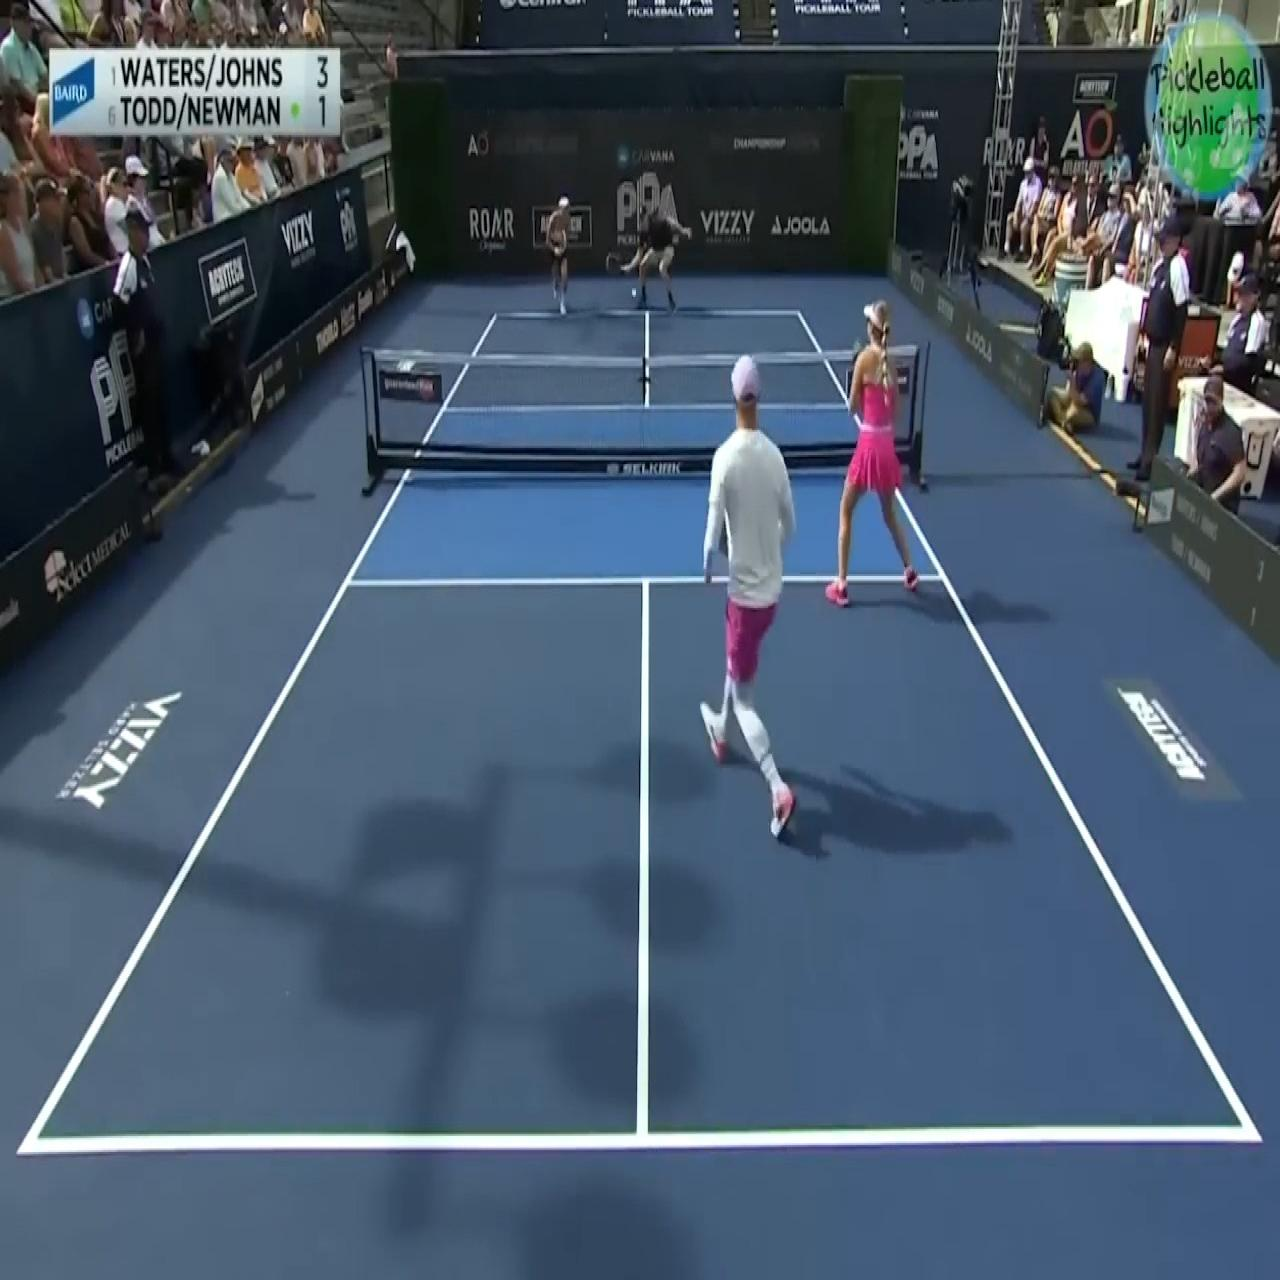pickleball: (632, 287, 636, 298)
